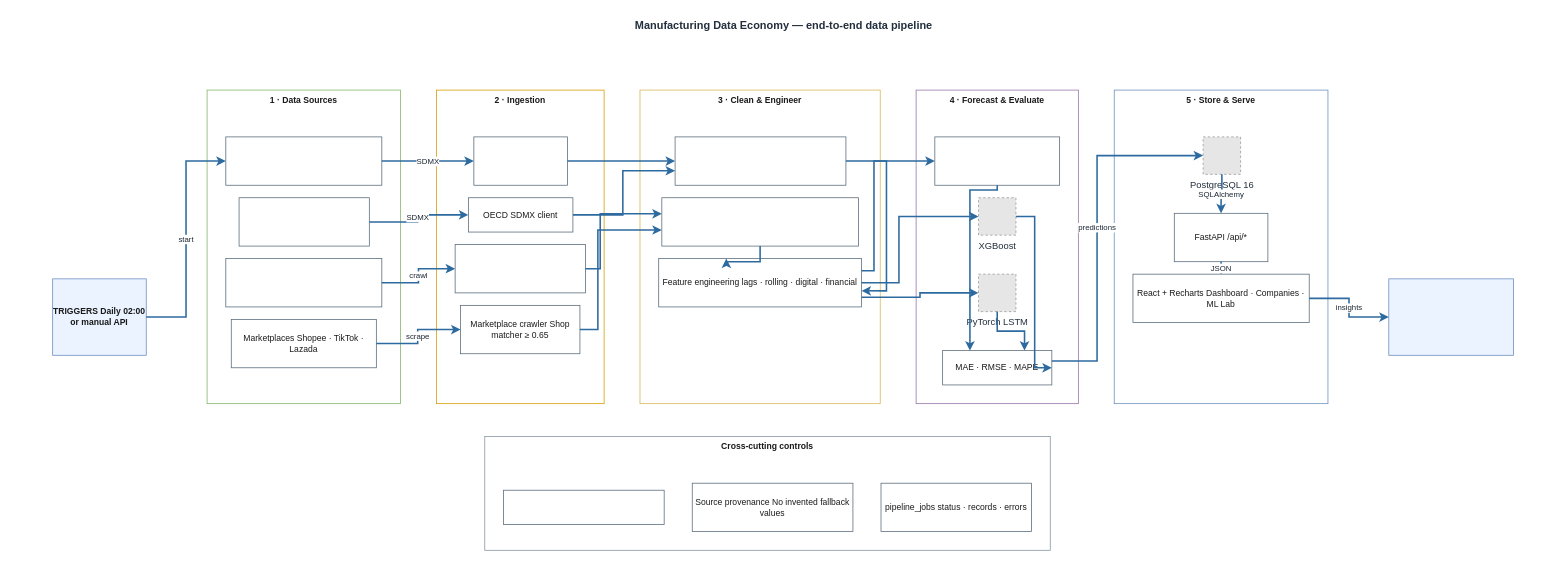
The diagram is 1565 pixels wide and 564 high, and some of its shapes have lost their labels. Grey dashed boxes stand in for pictures. The shapes that lost their labels are listed below. From the top down, each one's centre as x and y in pixels, then its label:
point (303, 160): GSO IIP · Shipment · Inventory
point (520, 160): GSO crawler SDMX / PX-Web
point (760, 160): Cleaning missing values · IQR outliers
point (997, 160): ARIMA(1,1,1) Statistical baseline
point (303, 221): OECD SDMX MEI IP · BCI · INDIGO
point (759, 221): Digital metrics Online revenue · Digital VA · VDEI
point (303, 282): 10 listed companies Metadata · BCTC · websites
point (519, 268): Company crawler HTTP · PDF extraction
point (1451, 316): CONSUMERS Researchers analysts · dashboard
point (583, 507): VSIC 10–33 ↔ ISIC Section C
